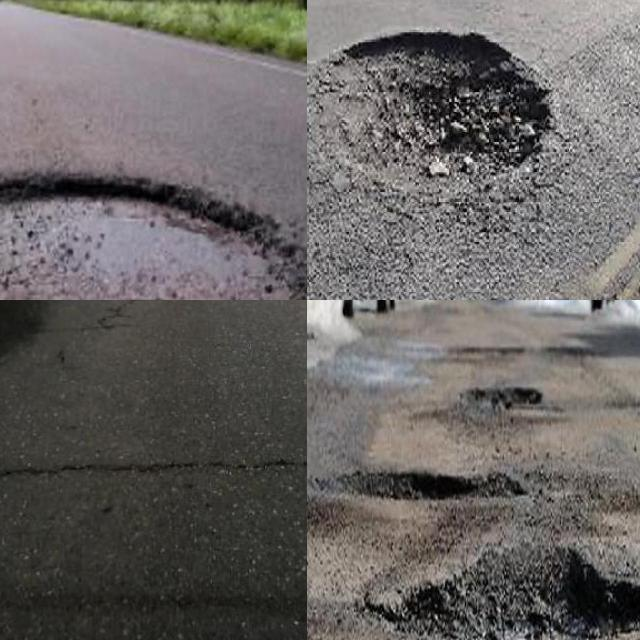Lubang: (0, 170, 307, 300), (307, 34, 550, 190), (363, 536, 640, 640), (314, 476, 528, 505), (464, 384, 537, 408)
Melintang: (0, 443, 307, 492)
